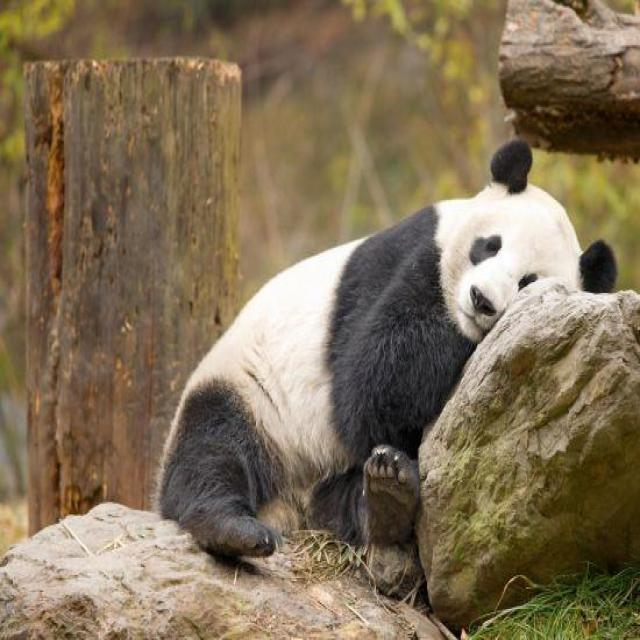panda: (152, 131, 620, 603)
